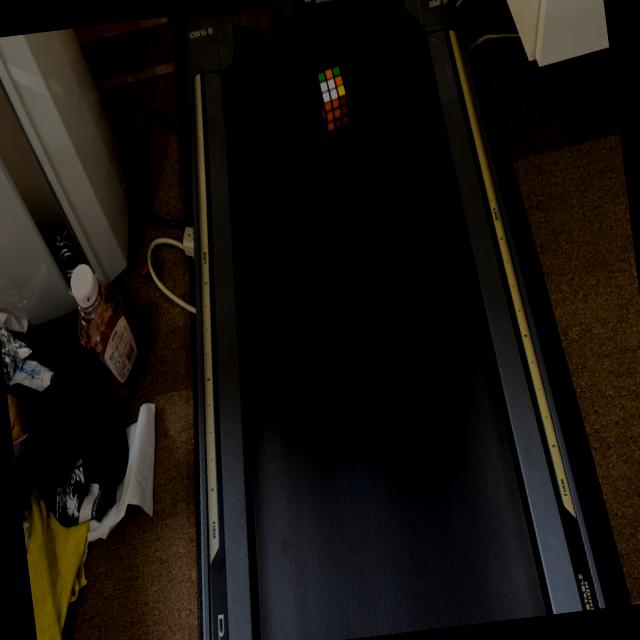Trash: (315, 64, 352, 134)
